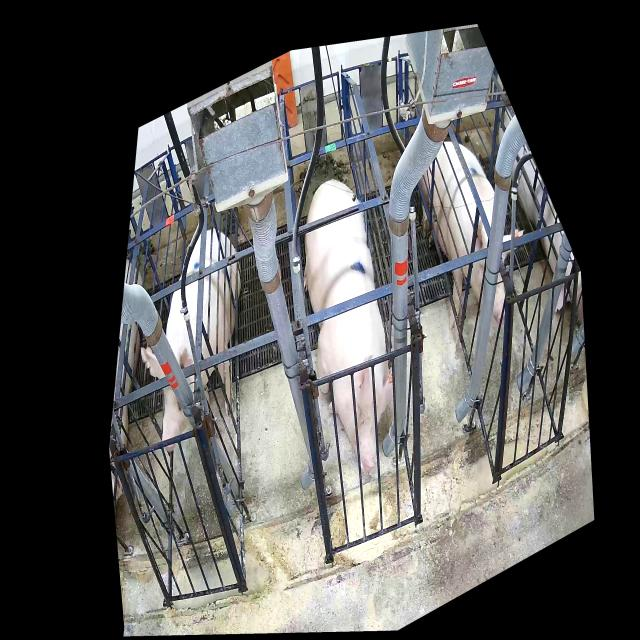pig: (304, 180, 393, 473), (141, 228, 241, 452), (420, 142, 524, 330)
